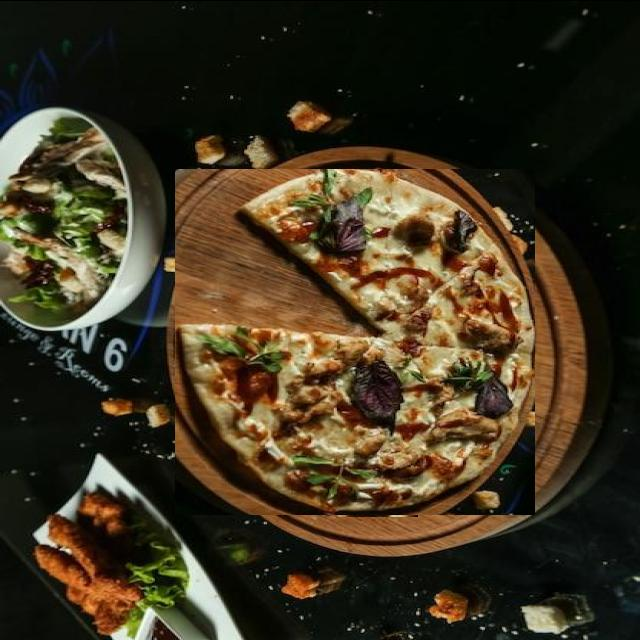basil: (337, 427, 418, 516), (334, 177, 418, 230), (196, 264, 270, 324), (307, 246, 358, 324), (426, 311, 512, 356), (230, 429, 260, 472)
pizza: (175, 168, 535, 514)
